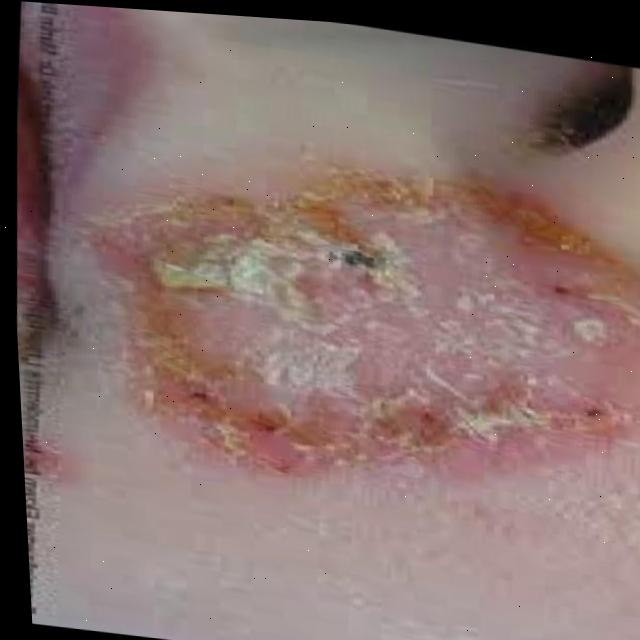Eczema: (115, 139, 640, 500)
